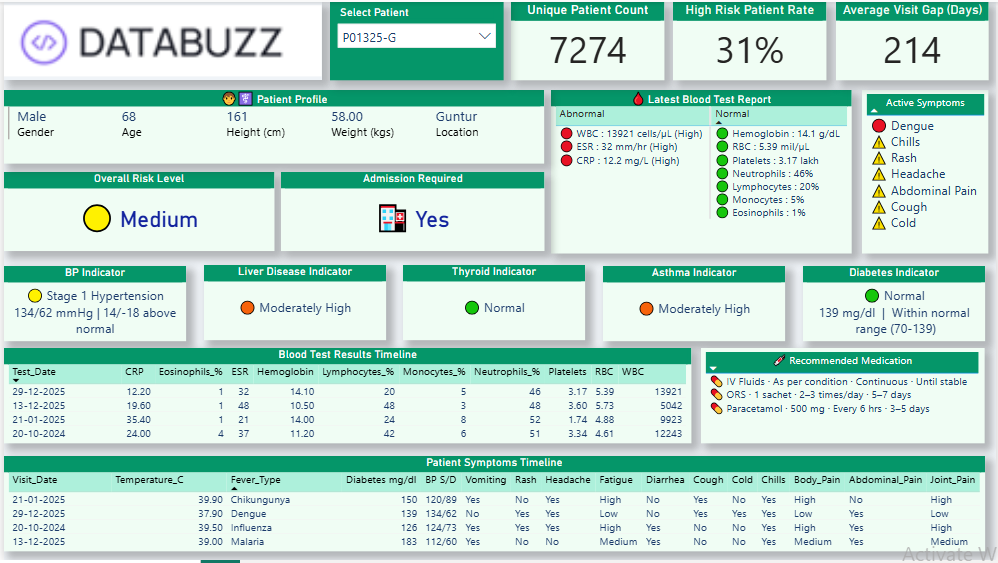

This screenshot's page, from the dashboard's own definition file:
{"tool":"powerbi","page":{"name":"Patient Diagnostic Dashboard ","canvas":[1280,720],"ordinal":0},"visuals":[{"type":"tableEx","title":"Patient Symptoms Timeline","fields":{"Values":["Patient_Symptoms.Visit_Date","Patient_Symptoms.Temperature_C","Patient_Symptoms.Fever_Type","Patient_Symptoms.Diabetes mg/dl (2hr AfterMeal)","Patient_Symptoms.BP S/D","Patient_Symptoms.Vomiting","Patient_Symptoms.Rash","Patient_Symptoms.Headache","Patient_Symptoms.Fatigue","Patient_Symptoms.Diarrhea","Patient_Symptoms.Cough","Patient_Symptoms.Cold"]},"box":[0,585.4,1265.7,123.3],"z":3000},{"type":"tableEx","title":"🩸 Latest Blood Test Report","fields":{"Values":["Measure Table.Card_BloodTest","Measure Table.Card_BloodTest_Normal"]},"box":[705.8,113.4,388.3,211.2],"z":5010},{"type":"tableEx","title":"Active Symptoms","fields":{"Values":["Measure Table.Card_Symptoms"]},"box":[1106.9,113.4,163,211.2],"z":5011},{"type":"card","title":"Overall Risk Level","fields":{"Values":["Measure Table.Risk_Summary"]},"box":[0,219.7,348.7,102],"z":5014},{"type":"image","box":[0,0,409.6,100.6],"z":5016},{"type":"multiRowCard","title":"🧑⚕️ Patient Profile","fields":{"Values":["Min(Patient_Symptoms.Gender)","Min(Patient_Symptoms.Age)","Min(Patient_Symptoms.Height in cm)","Avg(Patient_Symptoms.Weight kgs)","Min(Patient_Symptoms.Location)"]},"box":[0,113.4,697.3,95],"z":5017},{"type":"card","title":"Diabetes Indicator","fields":{"Values":["Measure Table.Indicator Diabetes"]},"box":[1030.4,340.2,235.3,97],"z":5018},{"type":"card","title":"Admission Required","fields":{"Values":["Measure Table.Latest_Admission_Status"]},"box":[357.2,219.7,340.2,102],"z":5019},{"type":"card","title":"Asthma Indicator","fields":{"Values":["Measure Table.Indicator Asthma"]},"box":[772.8,340.2,235.3,97],"z":5020},{"type":"card","title":"Thyroid Indicator","fields":{"Values":["Measure Table.Indicator Thyroid"]},"box":[515.2,338.7,235.3,97],"z":5021},{"type":"card","title":"Liver Disease Indicator","fields":{"Values":["Measure Table.Indicator Liver"]},"box":[257.6,338.7,235.3,97],"z":5022},{"type":"card","title":"BP Indicator","fields":{"Values":["Measure Table.Indicator BP"]},"box":[0,340.2,235.3,97],"z":5023},{"type":"tableEx","title":"Blood Test Results Timeline","fields":{"Values":["Blood_Test_Results.Test_Date","Sum(Blood_Test_Results.CRP)","Sum(Blood_Test_Results.Eosinophils_%)","Sum(Blood_Test_Results.ESR)","Sum(Blood_Test_Results.Hemoglobin)","Sum(Blood_Test_Results.Lymphocytes_%)","Sum(Blood_Test_Results.Monocytes_%)","Sum(Blood_Test_Results.Neutrophils_%)","Sum(Blood_Test_Results.Platelets)","Sum(Blood_Test_Results.RBC)","Sum(Blood_Test_Results.WBC)"]},"box":[0,446.5,887.2,123.3],"z":5024},{"type":"card","title":"Unique Patient Count","fields":{"Values":["Count(Patient_Symptoms.Patient_UID)"]},"box":[654.8,0,198.4,100.6],"z":5025},{"type":"slicer","fields":{"Values":["Patient_Symptoms.Patient_UID"]},"box":[420.2,0,223.9,100.6],"z":5026},{"type":"card","title":"High Risk Patient Rate","fields":{"Values":["Measure Table.High-Risk Patients %"]},"box":[863.9,0,198.4,100.6],"z":5028},{"type":"card","title":"Average Visit Gap (Days)","fields":{"Values":["Measure Table.Avg Visit Gap (Days)"]},"box":[1072.9,0,197,100.6],"z":5030},{"type":"tableEx","fields":{"Values":["Measure Table.mmMedication_for_Fever"]},"box":[900,446.5,365.7,123.3],"z":5031}]}

Visuals, with their boxes in screenshot pixels (x1, y1, x2, y2), scaled from the page's 1280x720 canvas onto the 998x563 screenshot:
"Patient Symptoms Timeline" tableEx: Rect(0, 458, 987, 554)
"🩸 Latest Blood Test Report" tableEx: Rect(550, 89, 853, 254)
"Active Symptoms" tableEx: Rect(863, 89, 990, 254)
"Overall Risk Level" card: Rect(0, 172, 272, 252)
image: Rect(0, 0, 319, 79)
"🧑⚕️ Patient Profile" multiRowCard: Rect(0, 89, 544, 163)
"Diabetes Indicator" card: Rect(803, 266, 987, 342)
"Admission Required" card: Rect(279, 172, 544, 252)
"Asthma Indicator" card: Rect(603, 266, 786, 342)
"Thyroid Indicator" card: Rect(402, 265, 585, 341)
"Liver Disease Indicator" card: Rect(201, 265, 384, 341)
"BP Indicator" card: Rect(0, 266, 183, 342)
"Blood Test Results Timeline" tableEx: Rect(0, 349, 692, 446)
"Unique Patient Count" card: Rect(511, 0, 665, 79)
slicer - Patient_Symptoms.Patient_UID: Rect(328, 0, 502, 79)
"High Risk Patient Rate" card: Rect(674, 0, 828, 79)
"Average Visit Gap (Days)" card: Rect(837, 0, 990, 79)
tableEx - Measure Table.mmMedication_for_Fever: Rect(702, 349, 987, 446)
